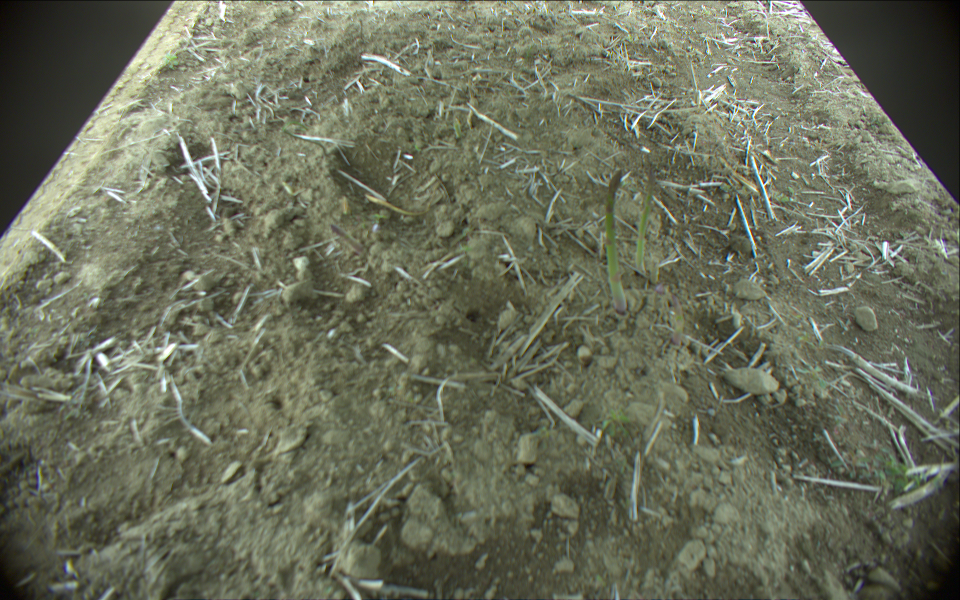aspa: (604, 169, 629, 313), (634, 157, 656, 276)
